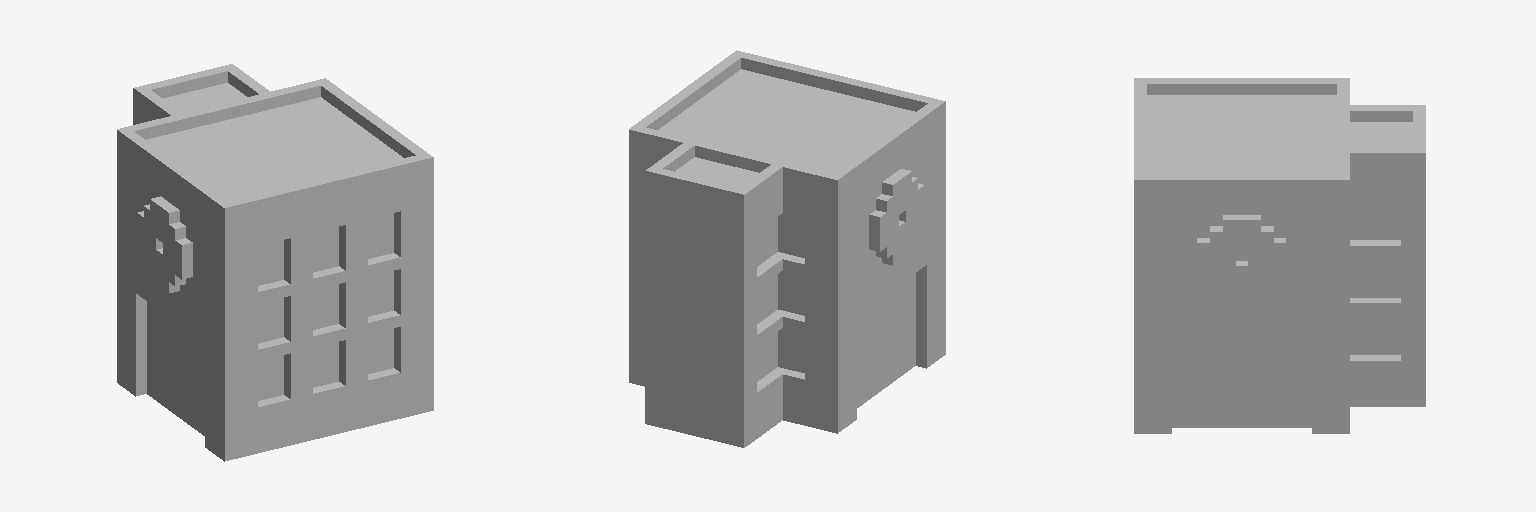
File: littlebuild_1.obj
The picture shows the model from 3 angles: view 1: azimuth 30°, elevation 25°; view 2: azimuth 150°, elevation 25°; view 3: azimuth 270°, elevation 25°; orthographic projection.
Size of the model in its own units: 21 by 22 by 23.